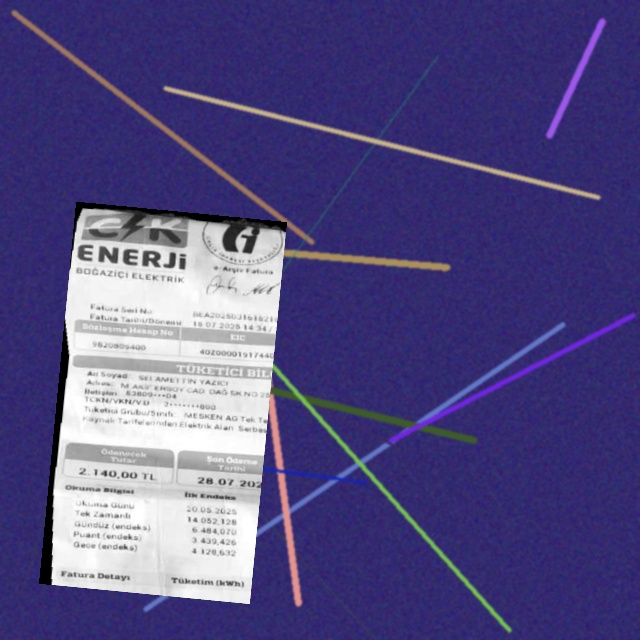electricity-bill: (38, 201, 286, 603)
